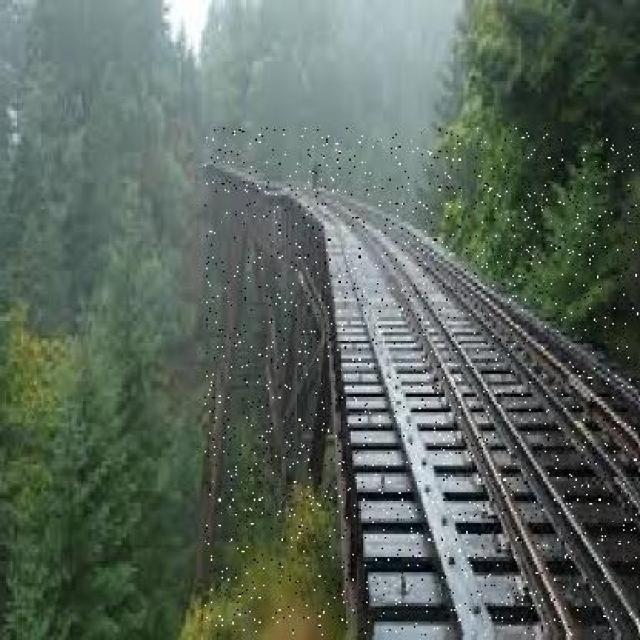rail: (205, 129, 638, 635)
